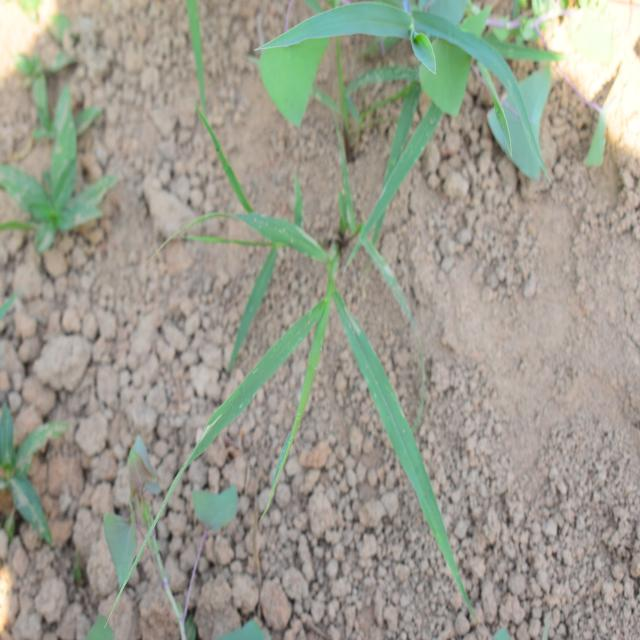green_foxtail: (175, 122, 436, 483)
